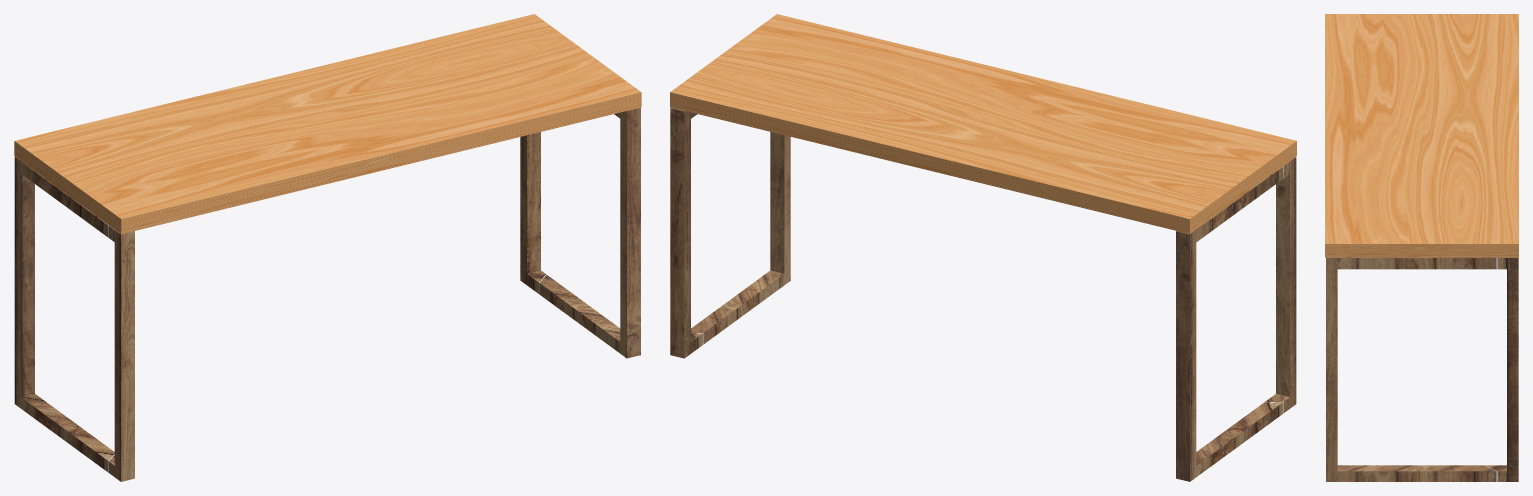
Rendered from table.FBX.
The picture shows the model from 3 angles, left to right: view 1: azimuth 30°, elevation 25°; view 2: azimuth 150°, elevation 25°; view 3: azimuth 270°, elevation 25°; orthographic projection. The views are drawn at different scales.
Parts seen in each view (by area): view 1: Box001, Box005, Box004; view 2: Box001, Box005, Box004; view 3: Box001, Box004.
Boxes of the visible parts, x1,y1,x2,y2 form: Box001: [14, 14, 641, 234]; Box005: [14, 156, 134, 481]; Box004: [520, 107, 640, 358]; Box001: [670, 14, 1296, 233]; Box005: [1176, 157, 1296, 481]; Box004: [670, 107, 790, 358]; Box001: [1325, 14, 1518, 257]; Box004: [1326, 257, 1518, 481].
Bounding box in the file's own units: 100 × 48.36 × 35.64.
